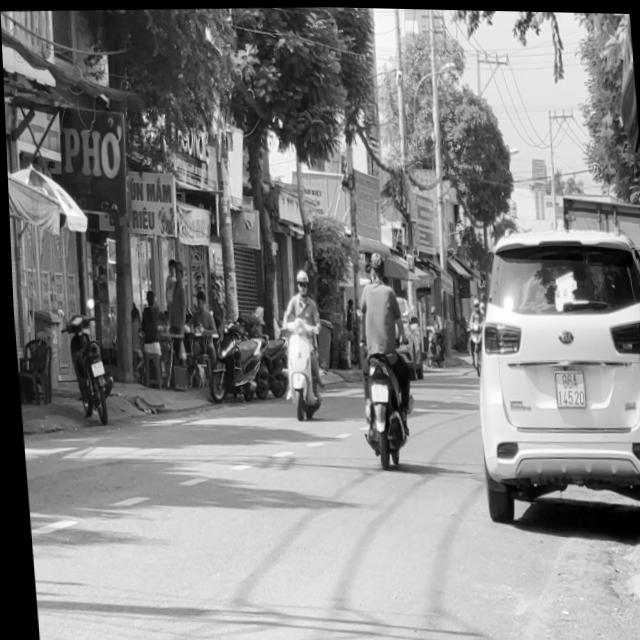helmet: (292, 266, 306, 294)
licenseplate: (343, 245, 415, 467), (271, 260, 325, 420)
motorcyclist: (364, 247, 383, 280)
nohelmet: (367, 380, 384, 400)
